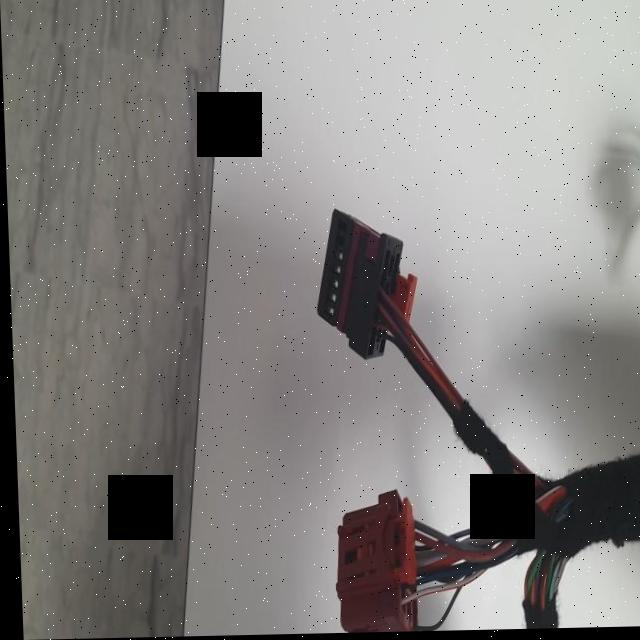connector: (314, 210, 414, 360), (315, 211, 399, 360), (331, 492, 410, 633)
